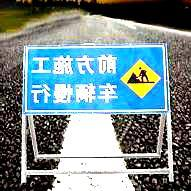sign: (22, 45, 165, 111)
